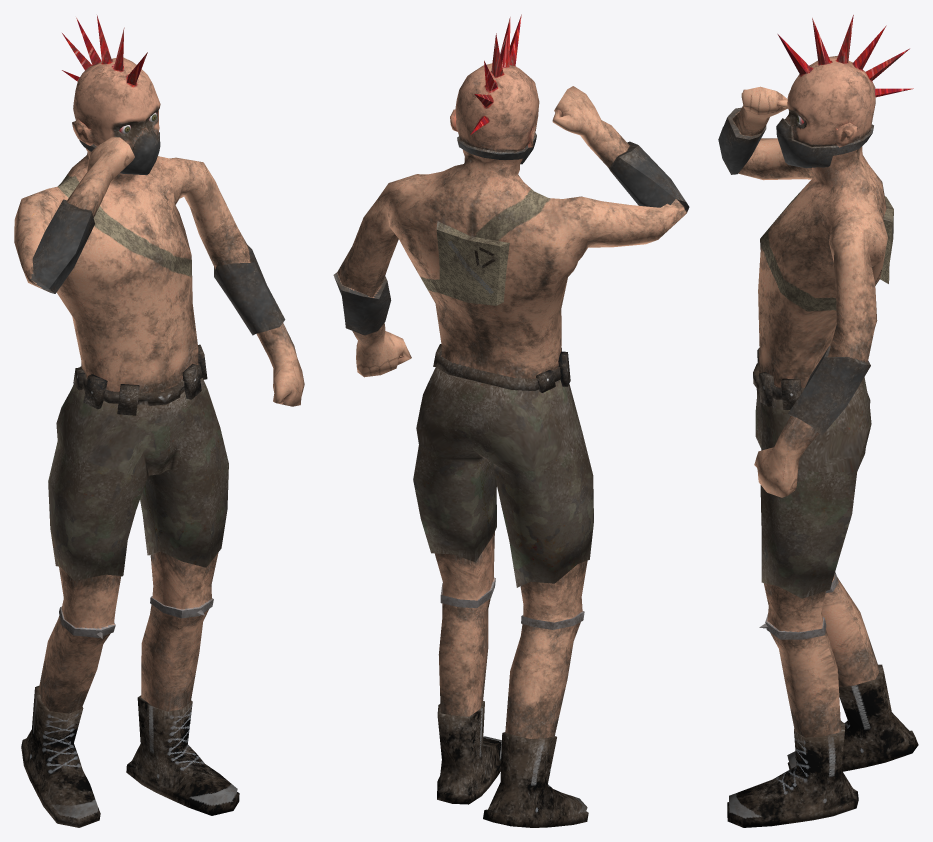
Rendered from Anim_perder_1_npc2.0027.obj.
The picture shows the model from 3 angles, left to right: view 1: azimuth 30°, elevation 25°; view 2: azimuth 150°, elevation 25°; view 3: azimuth 270°, elevation 25°; orthographic projection. The views are drawn at different scales.
Parts seen in each view (by area): view 1: polySurface1; view 2: polySurface1; view 3: polySurface1.
Part boxes in pixels (bbox=[...]): polySurface1: bbox=[14, 15, 304, 827]; polySurface1: bbox=[333, 14, 689, 827]; polySurface1: bbox=[718, 15, 918, 827].
Bounding box in the file's own units: 4.12 × 10.24 × 2.38.
